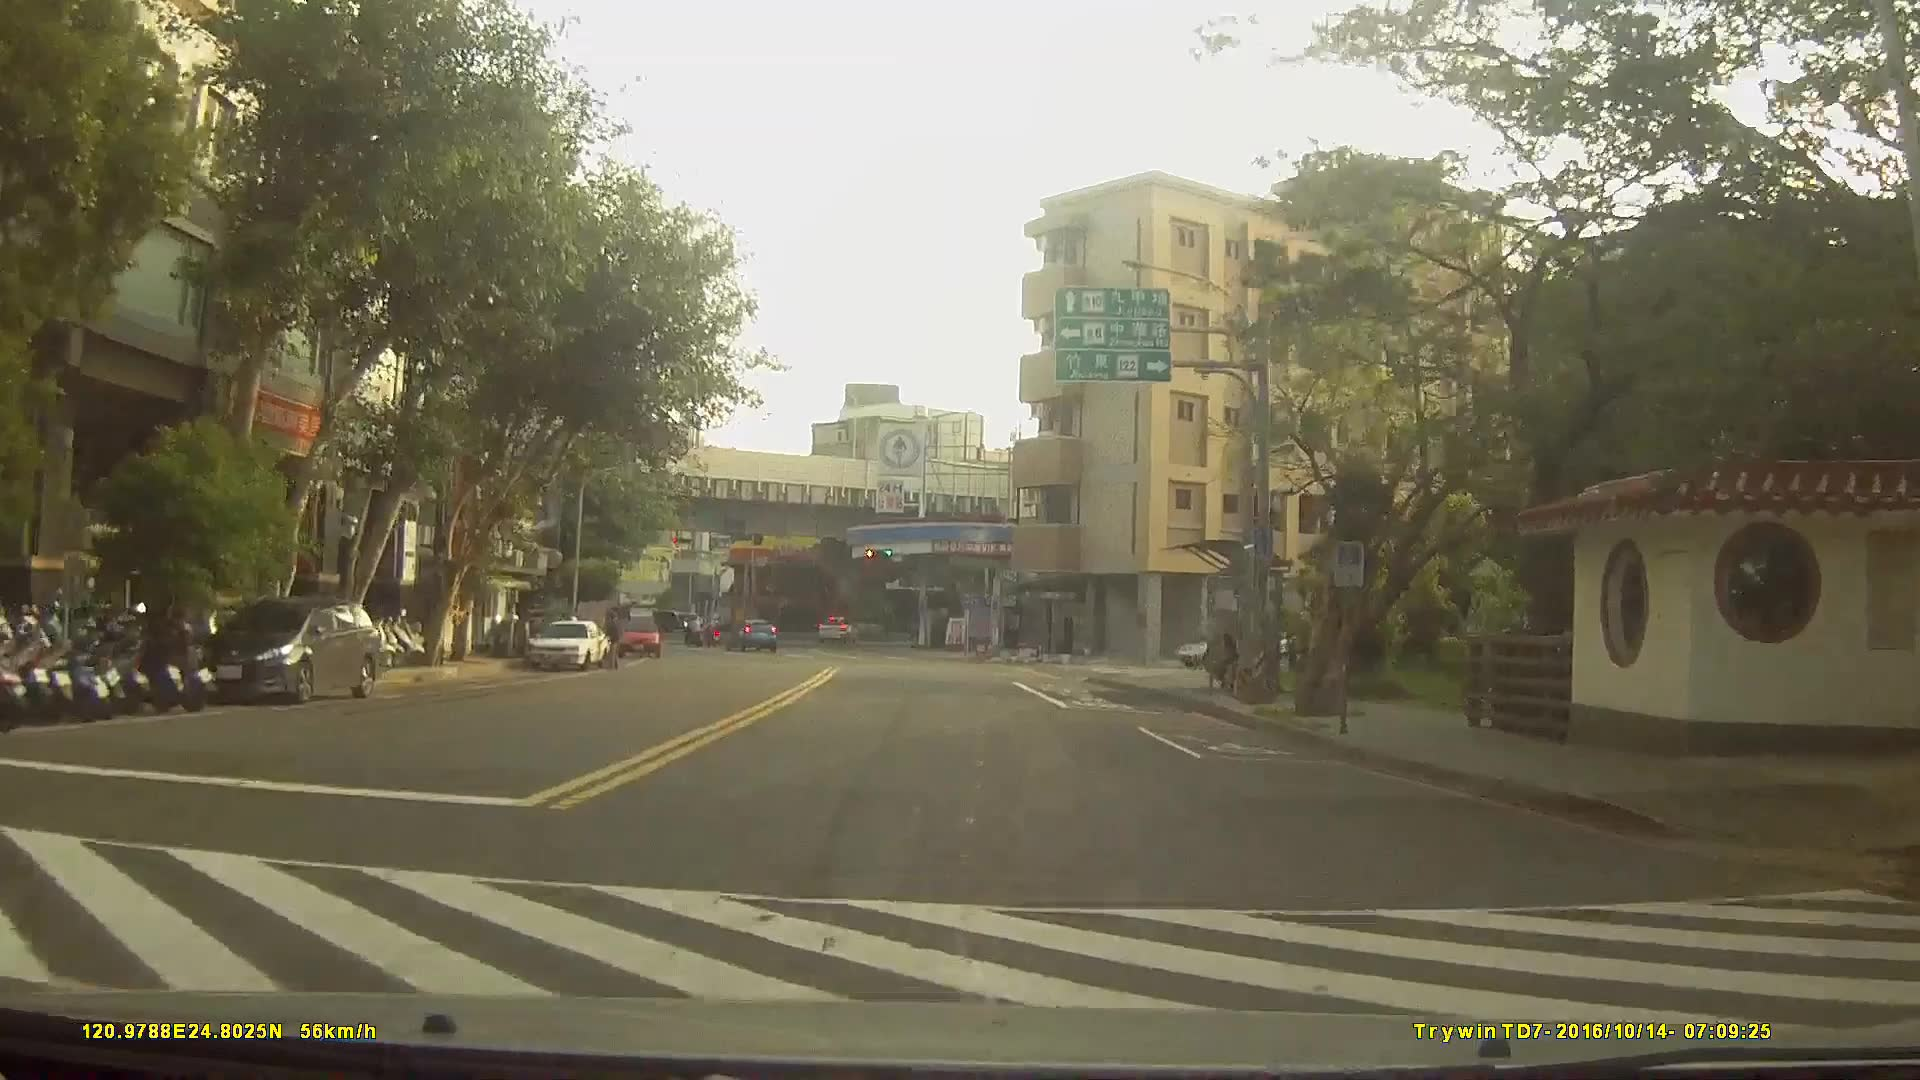rider: (682, 615, 705, 651)
vehicle: (202, 595, 379, 703), (526, 616, 610, 672), (617, 615, 662, 658), (724, 616, 778, 650), (818, 613, 859, 641)
